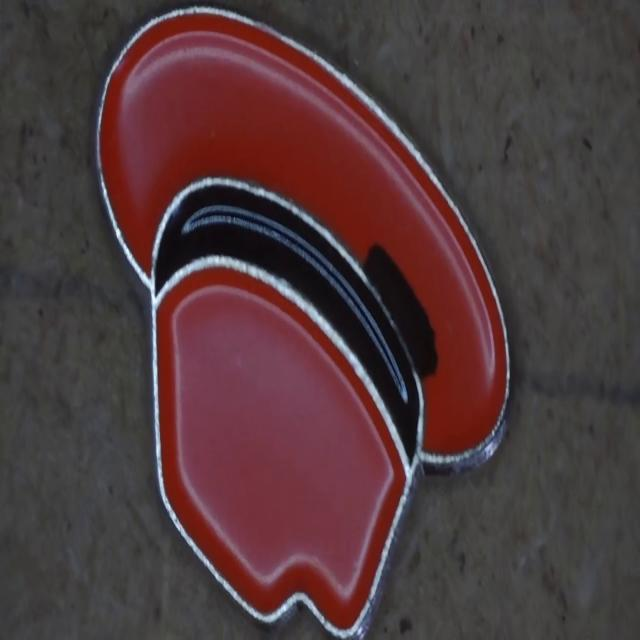Hatband: (155, 182, 420, 460)
Paint_Leak: (364, 244, 438, 377)
RedHatPin: (98, 9, 509, 636)
